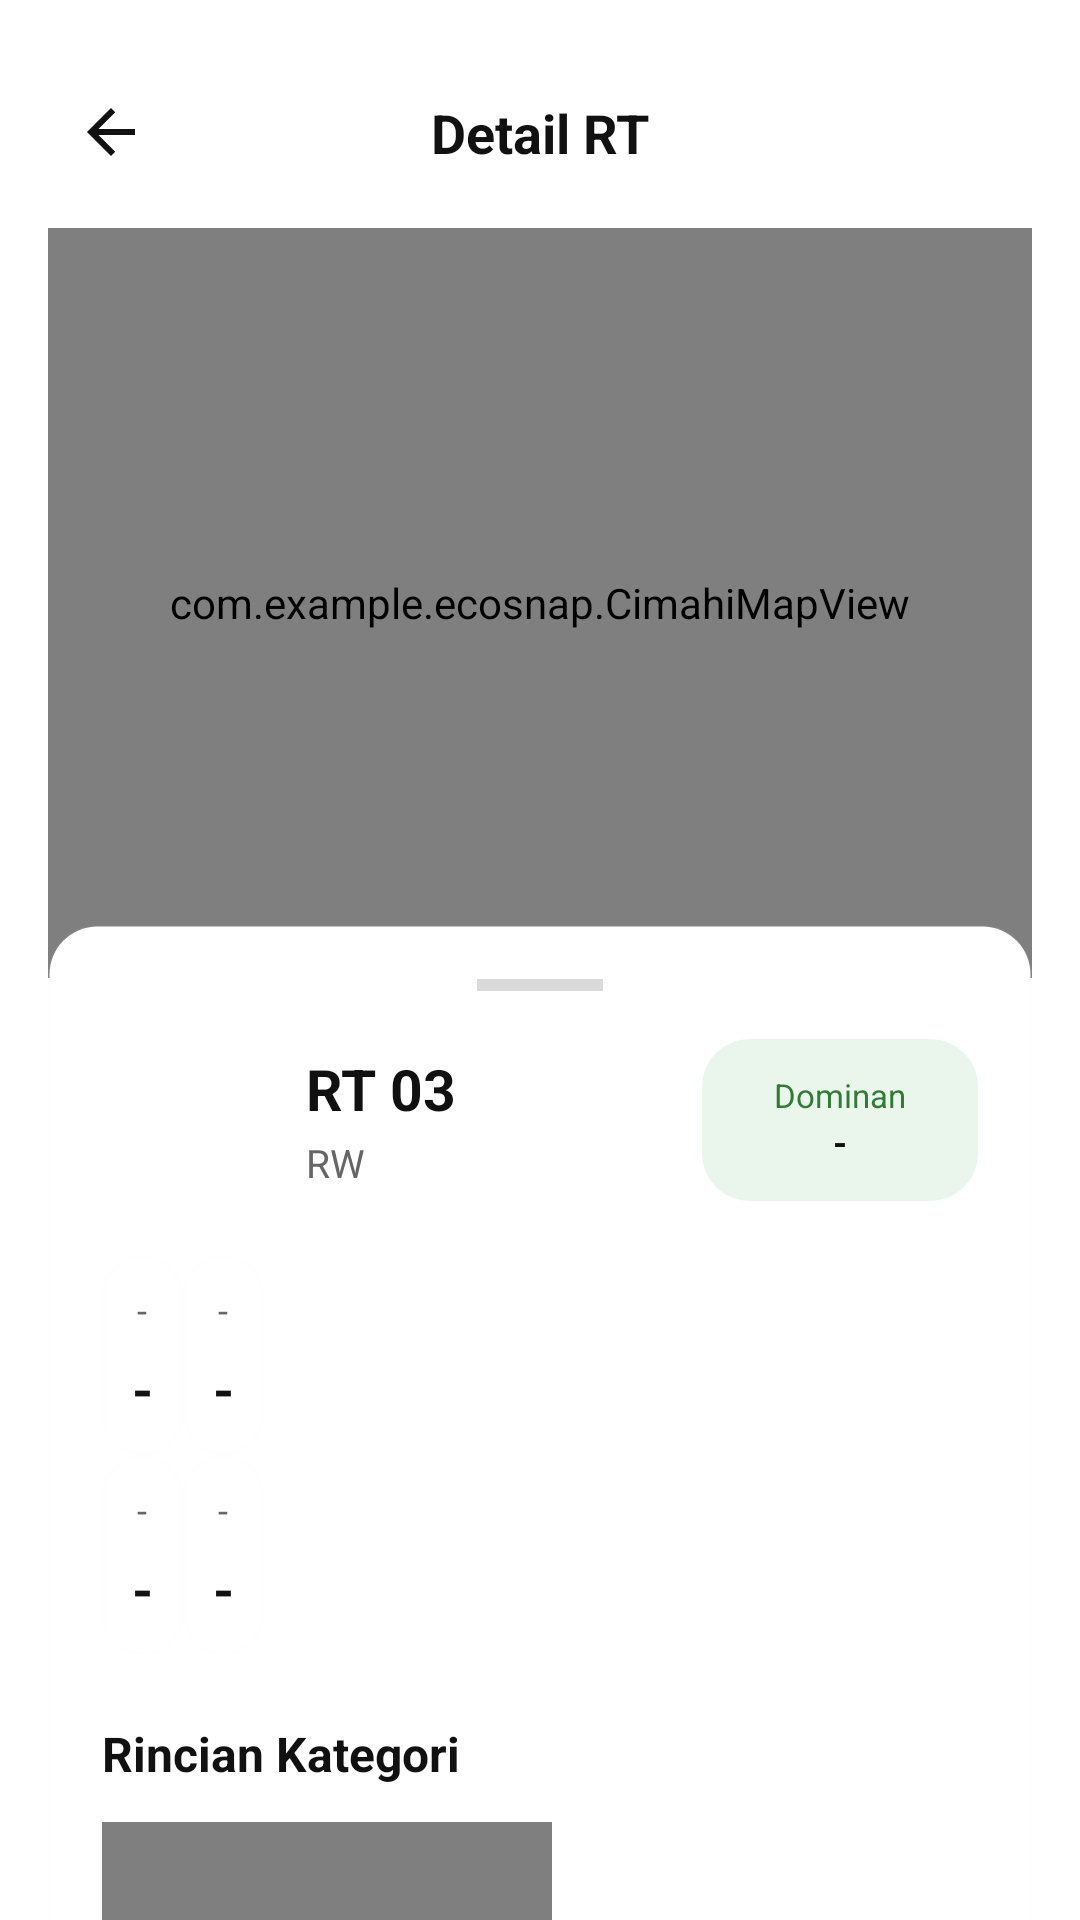

Icon click points for this 1080 x 1920 phone screenshot, format (x,y):
back: (111,132)
